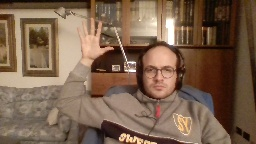Mano_aperta: (74, 17, 116, 61)
